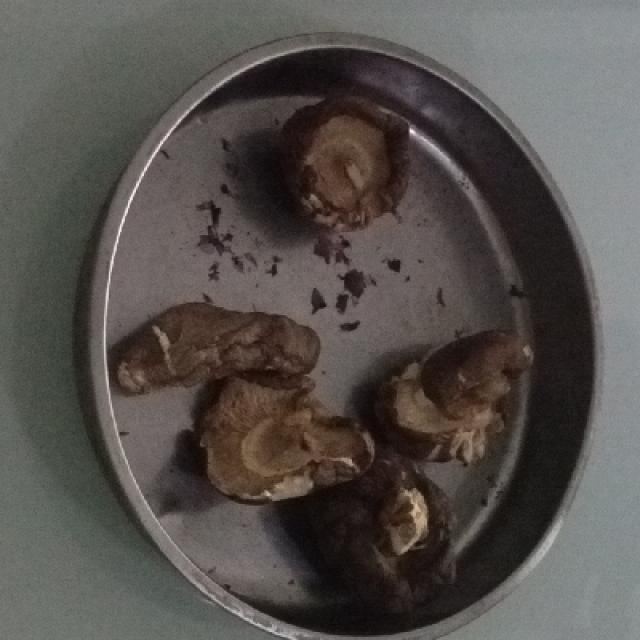Lentinus edodes: (203, 374, 375, 495), (398, 328, 533, 465), (286, 100, 416, 238), (115, 303, 315, 383), (351, 466, 451, 595)
